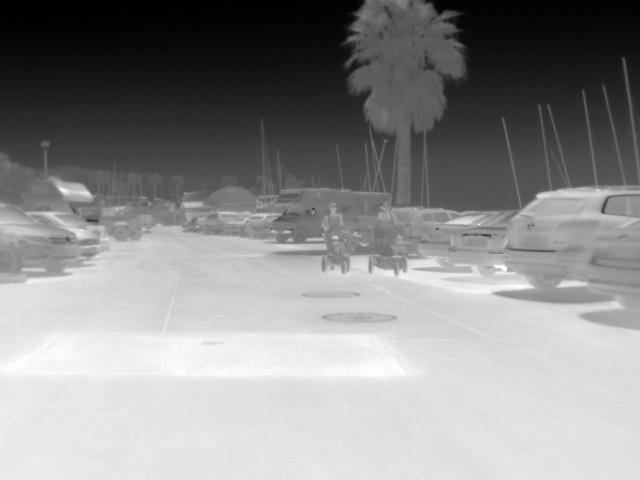car: (506, 183, 639, 292), (0, 198, 76, 276), (589, 216, 639, 311), (450, 209, 520, 276), (419, 210, 493, 269), (270, 186, 328, 243), (27, 179, 102, 223), (30, 212, 100, 258), (52, 211, 106, 246), (205, 207, 248, 235), (246, 212, 281, 239), (222, 216, 249, 235), (182, 214, 208, 232)
person: (320, 201, 344, 235), (376, 201, 398, 221)
